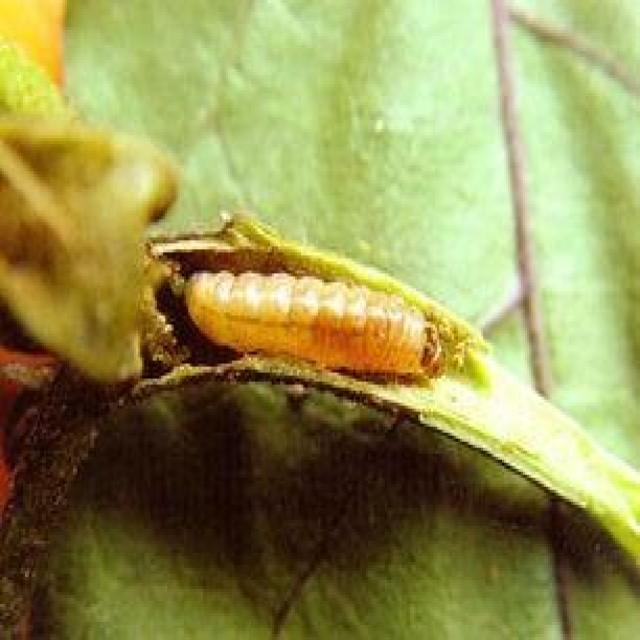peach borer: (181, 258, 461, 381)
